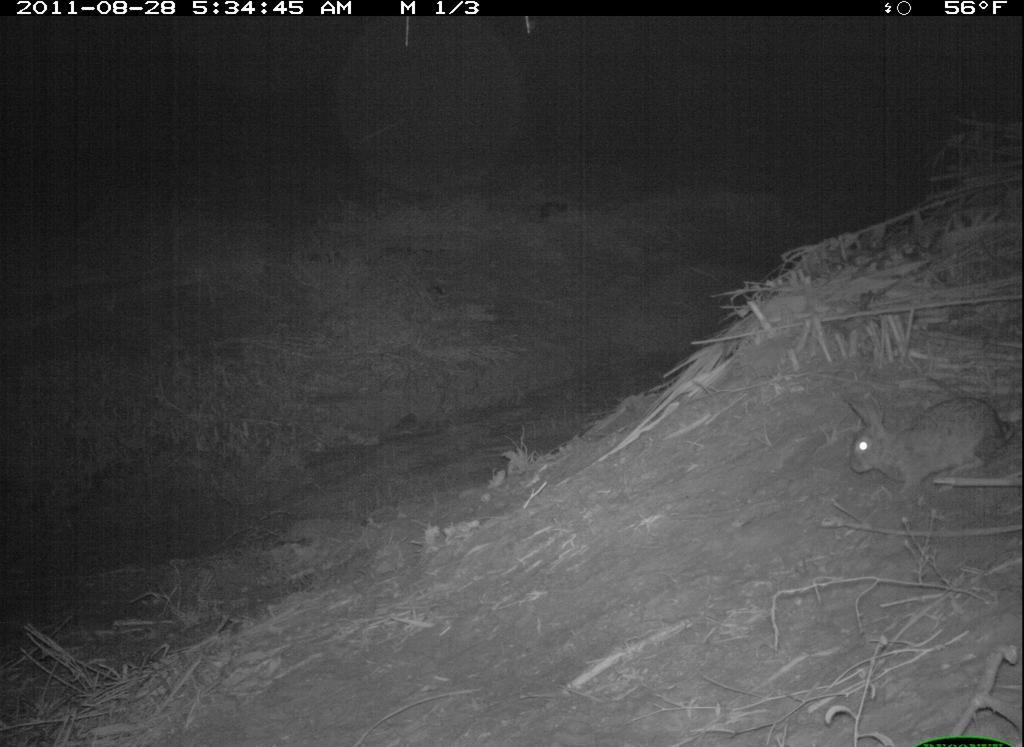rabbit: (831, 379, 1021, 506)
